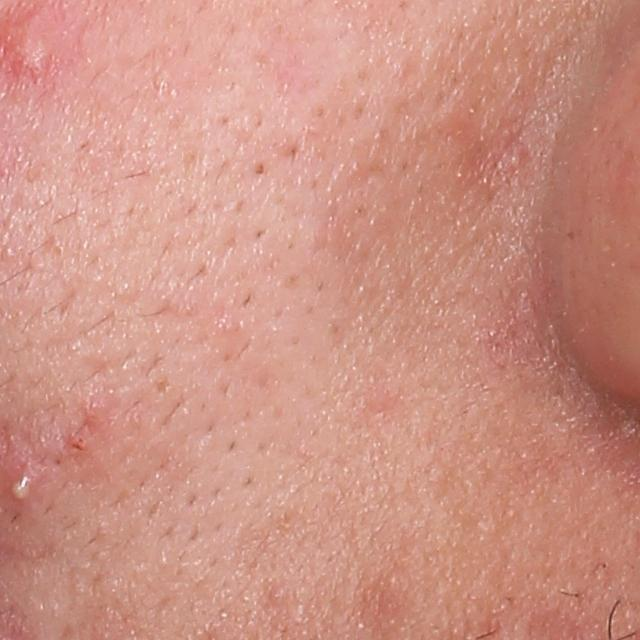papule: (0, 6, 50, 72)
pustule: (4, 471, 41, 506)
